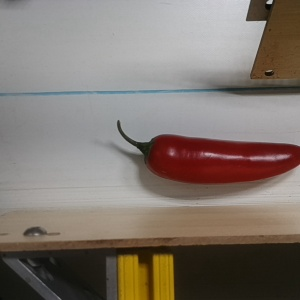Cut Point: (132, 127, 171, 175)
